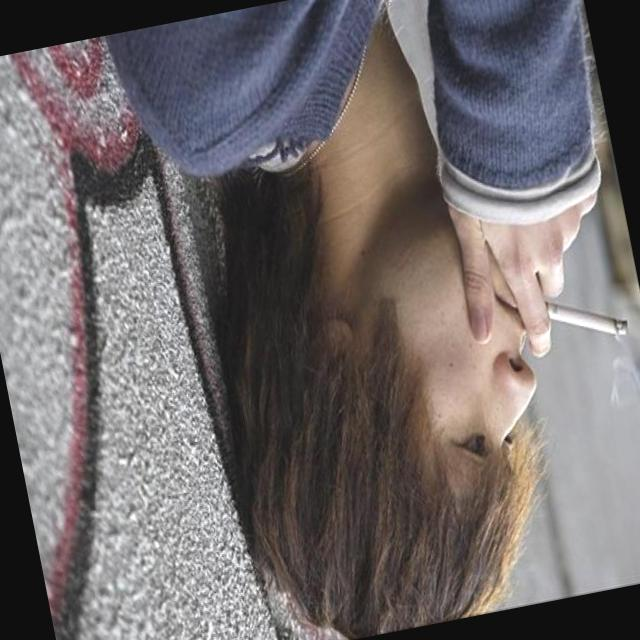smoke: (530, 282, 636, 358)
